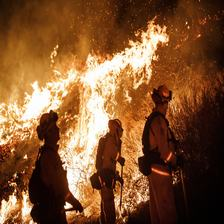fire: (33, 18, 175, 94), (62, 97, 106, 205)
